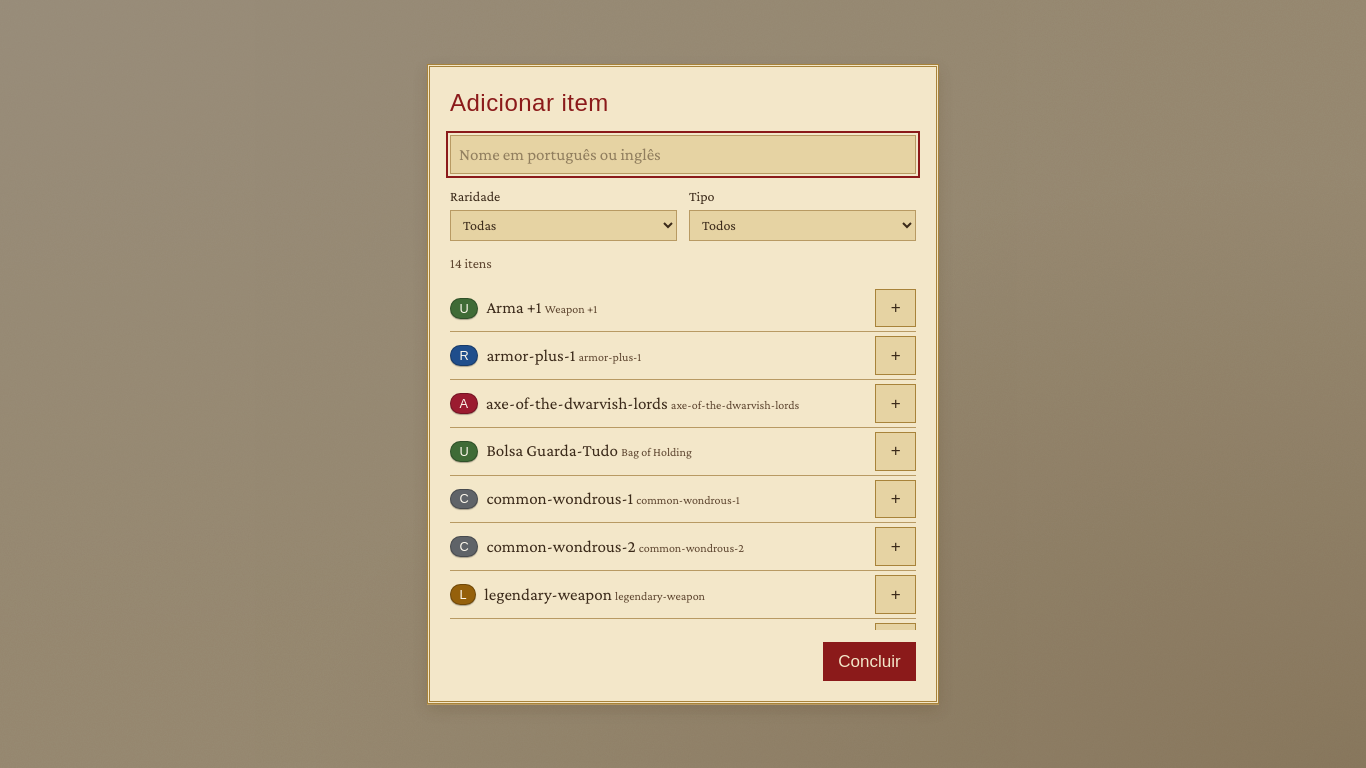
Test case: CatalogPicker › adiciona o item escolhido e confirma na tela
Click the button named "Adicionar Bolsa Guarda-Tudo" at (896, 451), box [875,432,916,471]
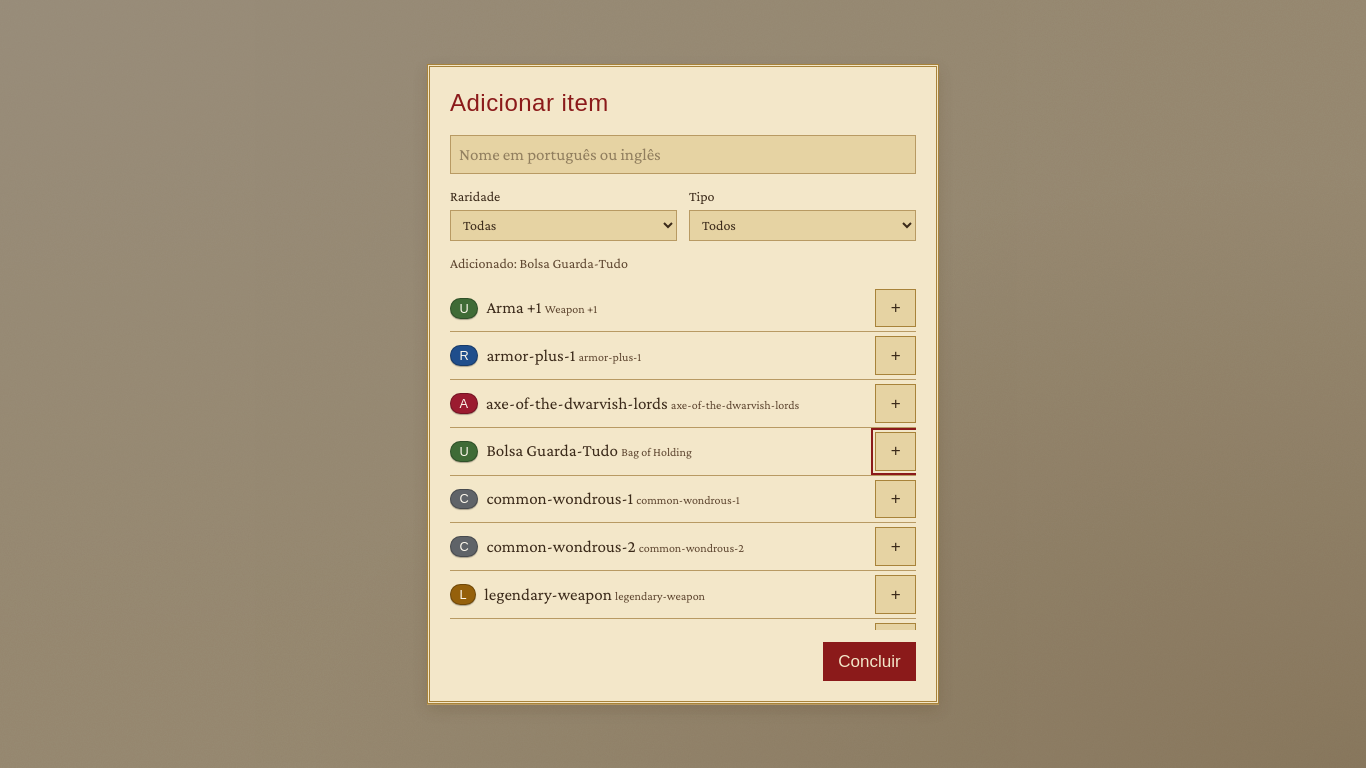
Expected: the message reads "Adicionado: Bolsa Guarda-Tudo", [450,255,628,271]
